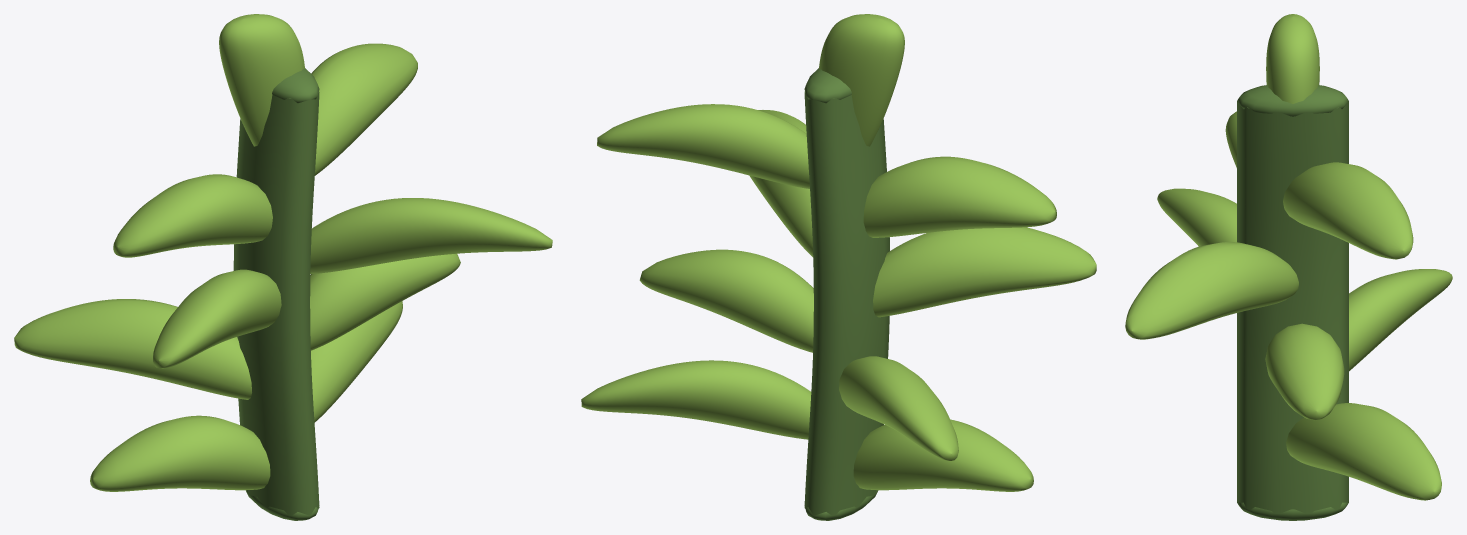
Rendered from crop_5_stage_2.fbx.
3 renders of one model, left to right at view 1: azimuth 30°, elevation 25°; view 2: azimuth 150°, elevation 25°; view 3: azimuth 270°, elevation 25°, orthographic. The views are drawn at different scales.
Visible parts, largest first — view 1: crop_5_stage_2; view 2: crop_5_stage_2; view 3: crop_5_stage_2.
Part boxes in pixels (box(x1,y1,x2,y2)): crop_5_stage_2: box(14, 14, 552, 520); crop_5_stage_2: box(581, 14, 1096, 520); crop_5_stage_2: box(1125, 14, 1452, 520).
Size of the model in its own units: 0.72 by 0.91 by 0.56.
1 material, 1 textured.
